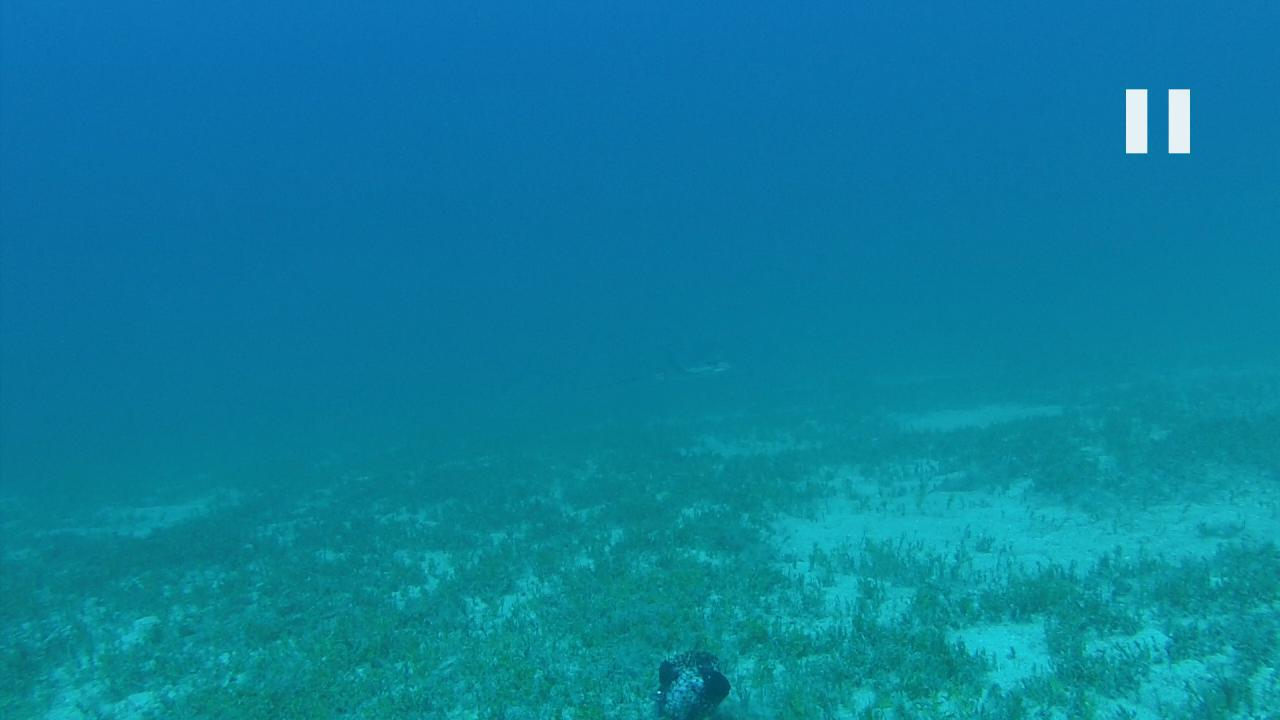dasyatis: (604, 334, 736, 388)
